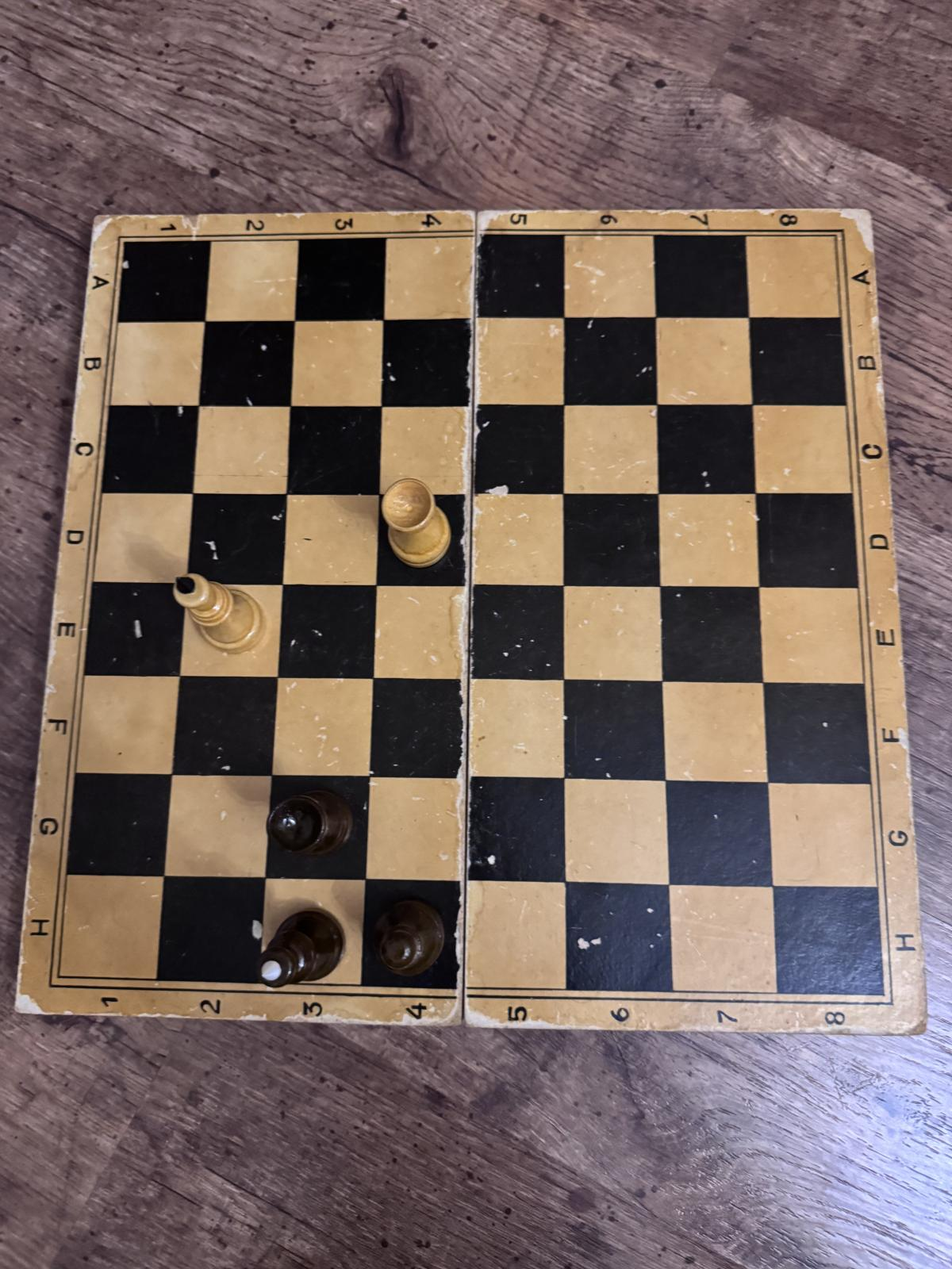Chess-Board: (58, 235, 885, 995)
